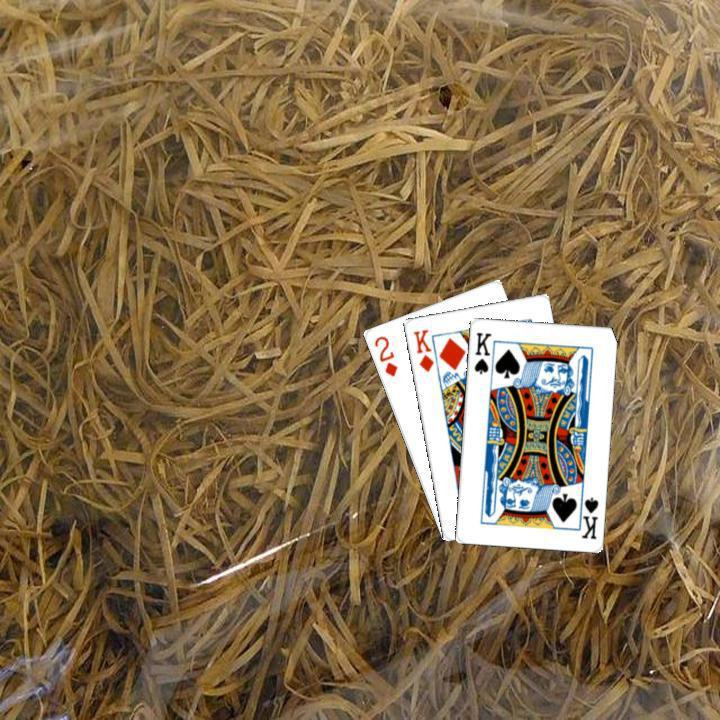2: (369, 331, 399, 379)
K: (573, 488, 600, 540), (409, 325, 436, 374), (469, 327, 493, 376)
